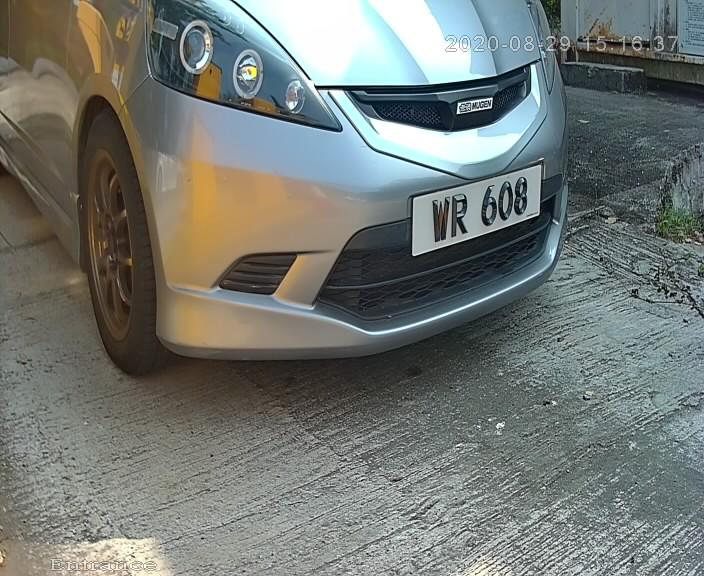License Plate: (400, 160, 544, 260)
